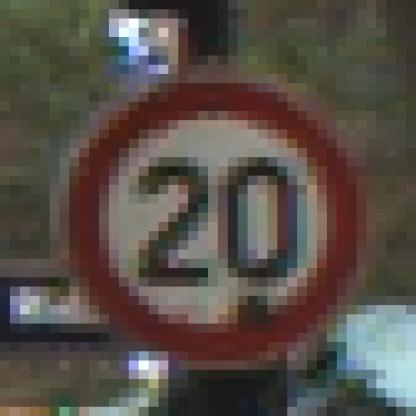Speed Limit 20: (79, 83, 351, 354)
